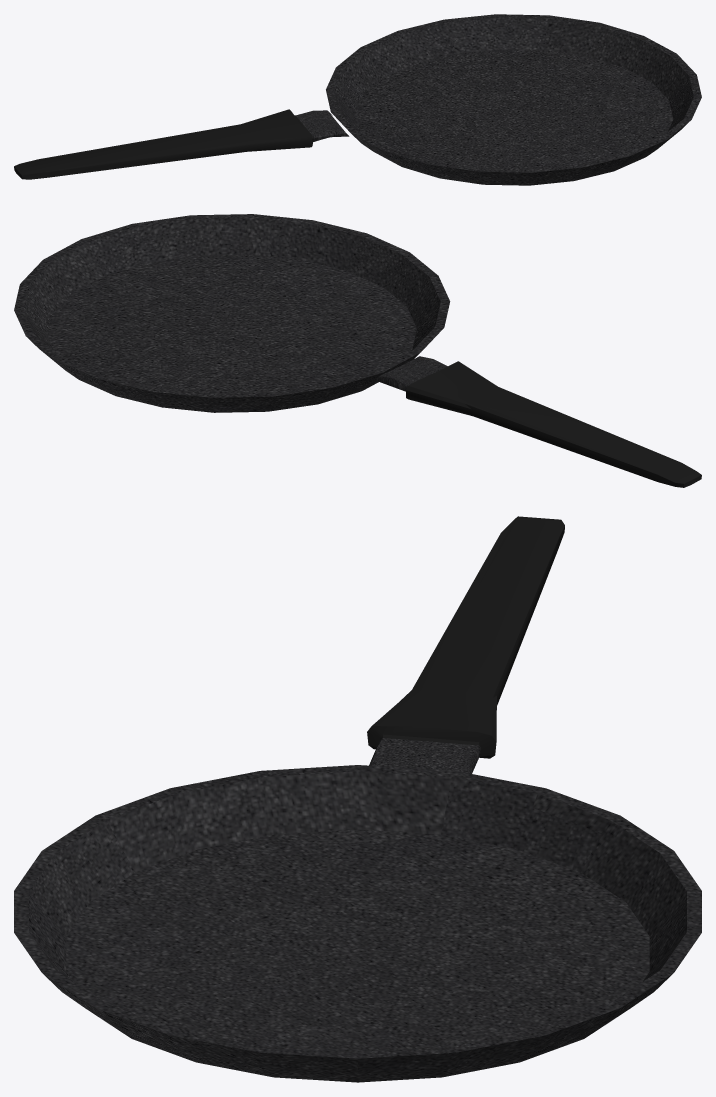
Rendered from Pan.FBX.
3 renders of one model, top to bottom at view 1: azimuth 30°, elevation 25°; view 2: azimuth 150°, elevation 25°; view 3: azimuth 270°, elevation 25°, orthographic. The views are drawn at different scales.
Visible parts, largest first — view 1: pan; view 2: pan; view 3: pan.
Boxes of the visible parts, left/top/right/bottom form: pan: left=14, top=14, right=701, bottom=185; pan: left=14, top=214, right=701, bottom=487; pan: left=14, top=516, right=701, bottom=1082.
Bounding box in the file's own units: 448 × 20.05 × 237.
